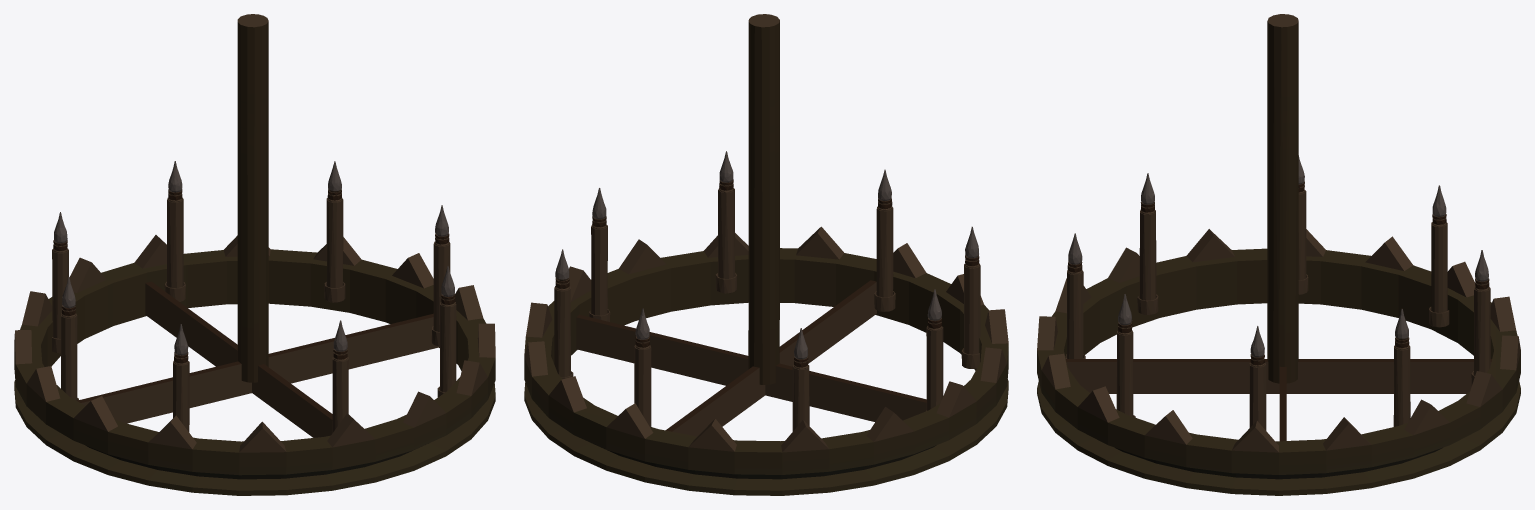
The model's file is MOD_lustre.fbx.
The picture shows the model from 3 angles, left to right: view 1: azimuth 30°, elevation 25°; view 2: azimuth 150°, elevation 25°; view 3: azimuth 270°, elevation 25°; orthographic projection.
Parts seen in each view (by area): view 1: MOD_lustre; view 2: MOD_lustre; view 3: MOD_lustre.
Part boxes in pixels (x1,y1,x2,y2): MOD_lustre: [14, 14, 495, 495]; MOD_lustre: [524, 14, 1008, 495]; MOD_lustre: [1037, 14, 1520, 495].
Bounding box in the file's own units: 1.13 × 0.9634 × 1.13.
